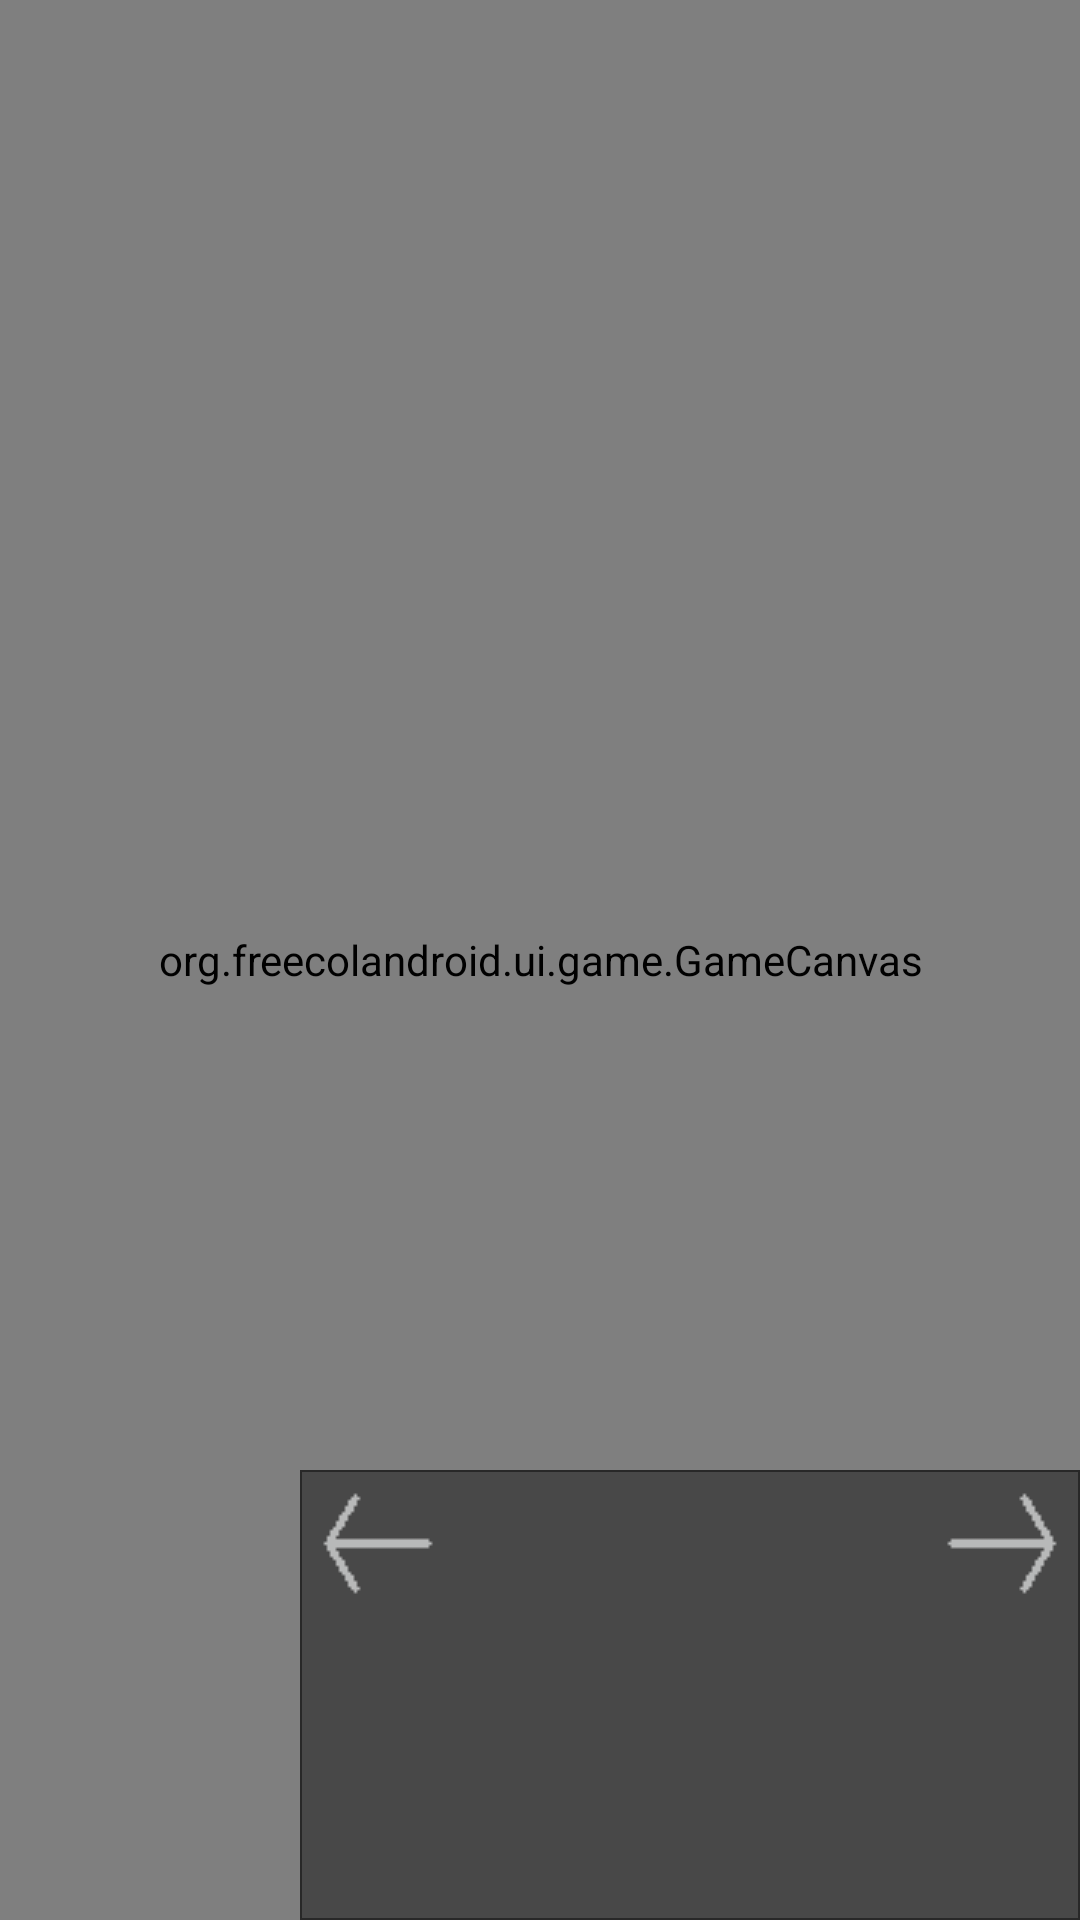

Icon click points for this 1080 × 1920 phone screenshot, format point (x, y):
arrow left: point (378, 1543)
arrow right: point (1002, 1543)
